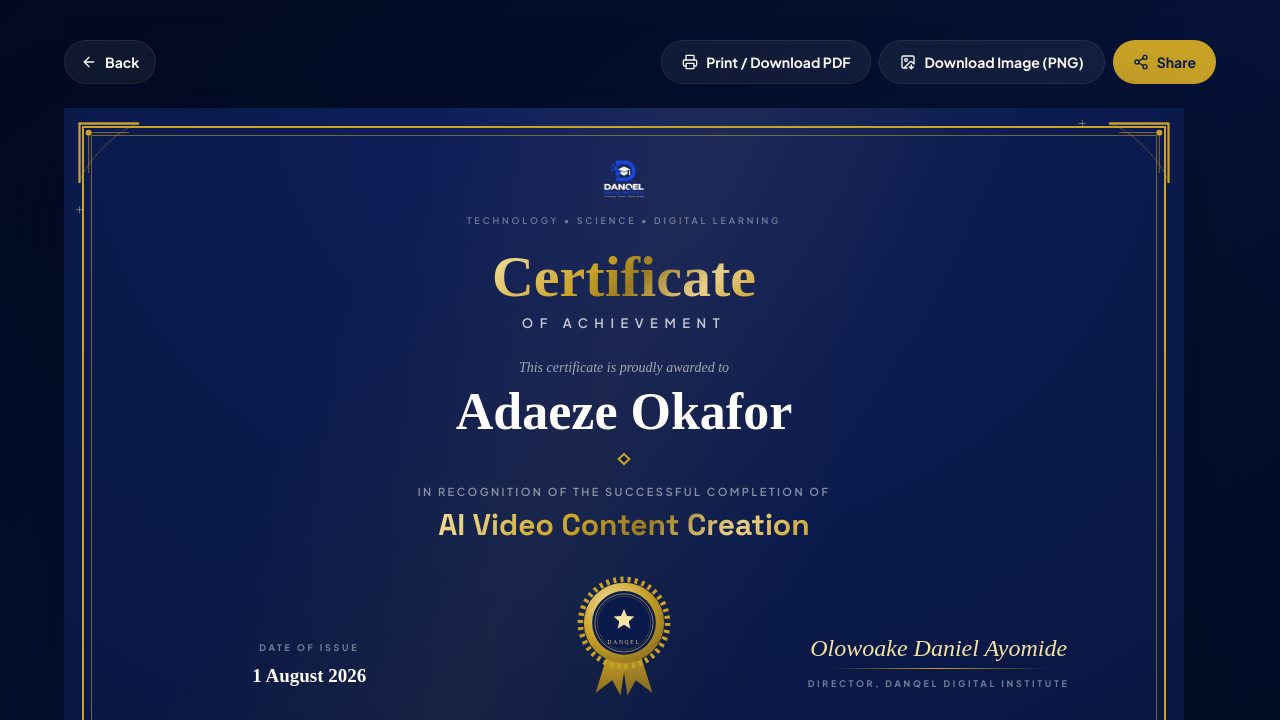
Certificate page download action › shows the Print fallback message when the export fails
What coordinates should you click on to do the following:
click the button "Download Image (PNG)"
I would click on:
 (992, 62)
Its box is 880,40 -> 1105,84.
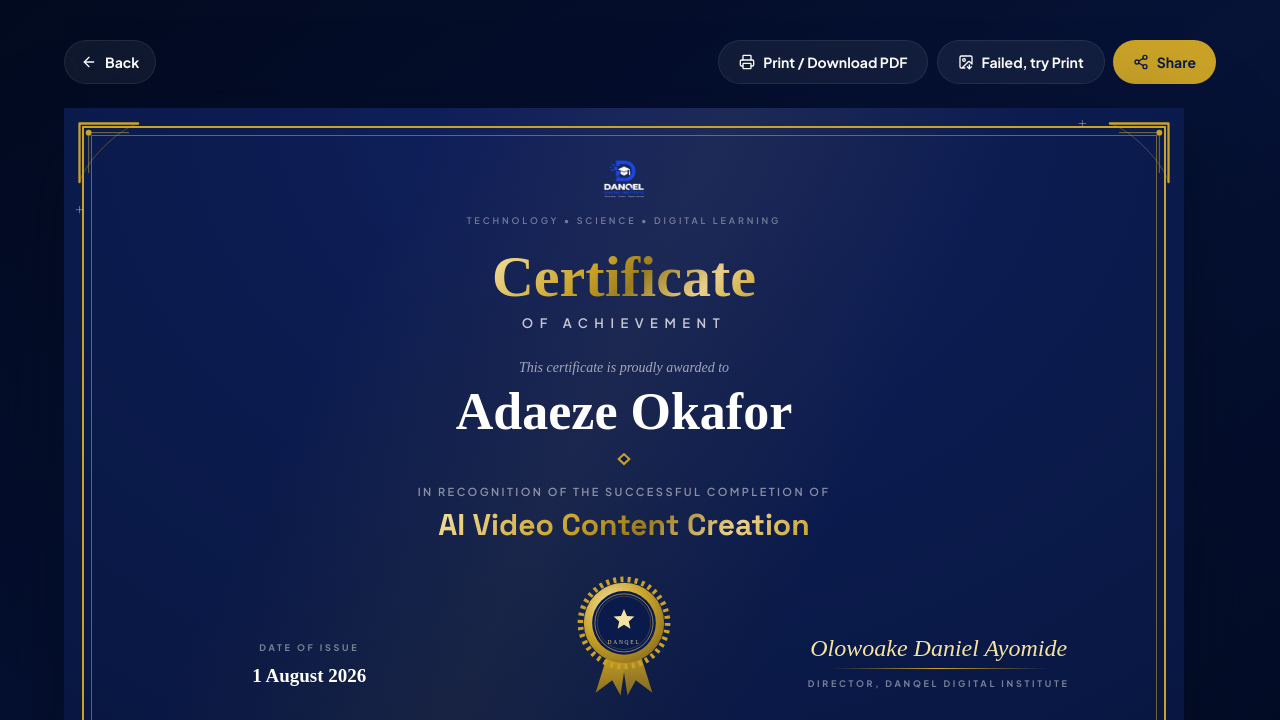
Check: the text "Failed, try Print" is shown, box 982,52 -> 1084,72
